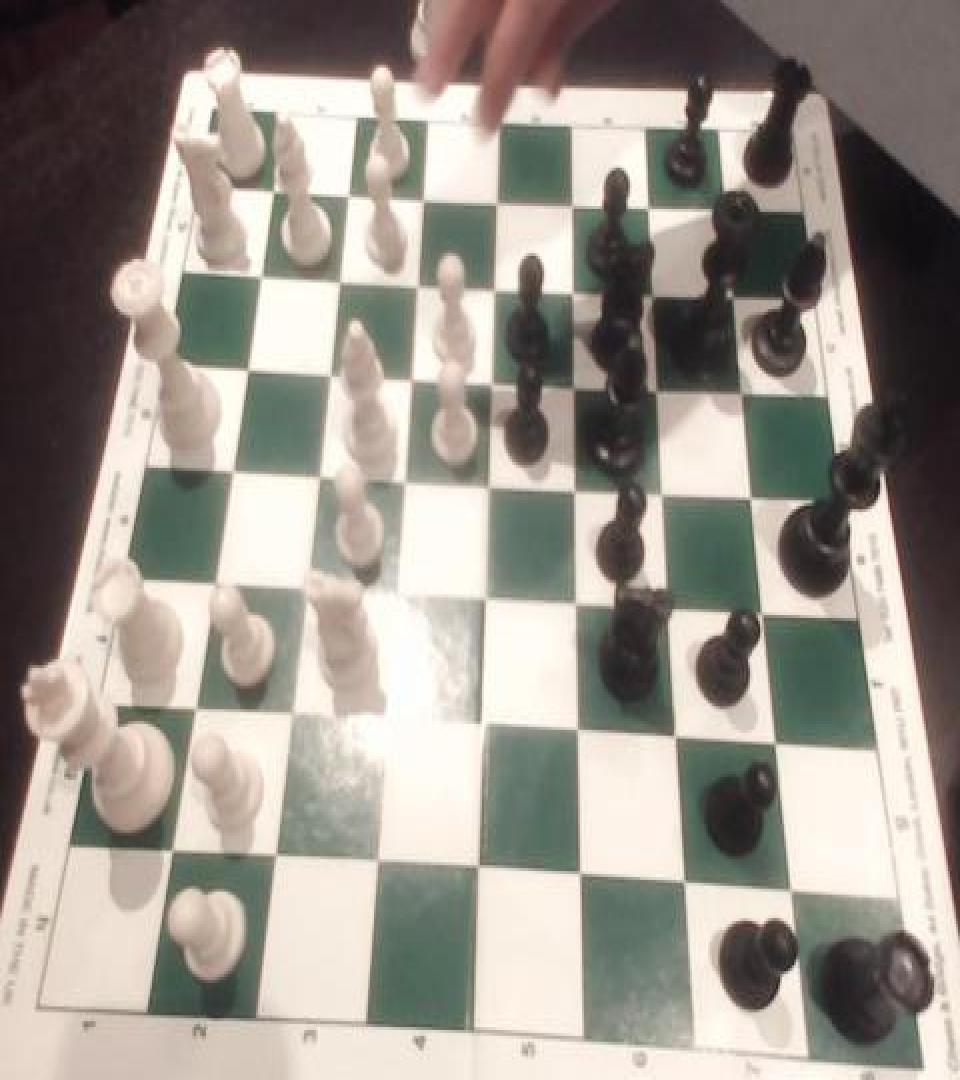xcorner: (713, 188, 741, 230), (560, 182, 588, 224), (333, 172, 361, 214), (722, 276, 750, 318), (641, 272, 669, 314), (731, 372, 759, 414), (395, 354, 423, 396), (652, 472, 680, 514), (215, 450, 243, 492), (752, 594, 780, 636), (674, 866, 702, 908), (258, 840, 286, 882), (156, 834, 184, 876), (484, 179, 512, 220), (408, 175, 436, 216), (561, 268, 589, 309), (481, 265, 509, 306), (402, 262, 430, 303), (245, 255, 273, 296), (646, 368, 674, 409), (479, 359, 507, 400), (313, 352, 341, 393), (741, 477, 769, 518), (564, 468, 592, 509), (388, 459, 416, 500), (301, 455, 329, 496), (659, 590, 687, 631), (565, 584, 593, 625), (472, 580, 500, 621), (380, 574, 408, 615), (765, 727, 793, 768), (178, 691, 206, 732), (779, 874, 807, 915), (569, 861, 597, 902), (636, 186, 664, 226), (258, 170, 286, 210), (323, 258, 351, 298), (562, 364, 590, 404), (230, 348, 258, 388), (476, 464, 504, 504), (288, 570, 316, 610), (197, 564, 225, 604), (666, 720, 694, 760), (567, 714, 595, 754), (469, 710, 497, 750), (371, 704, 399, 744), (274, 698, 302, 738), (465, 854, 493, 894), (361, 848, 389, 888)
